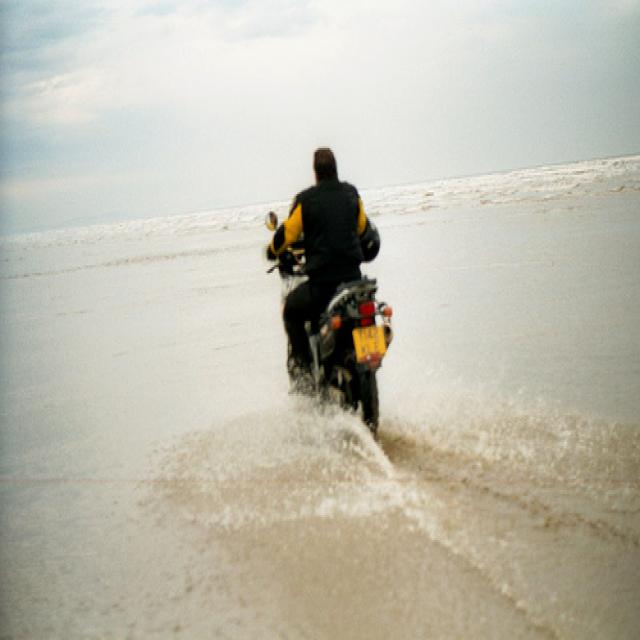motor: (276, 234, 392, 438)
